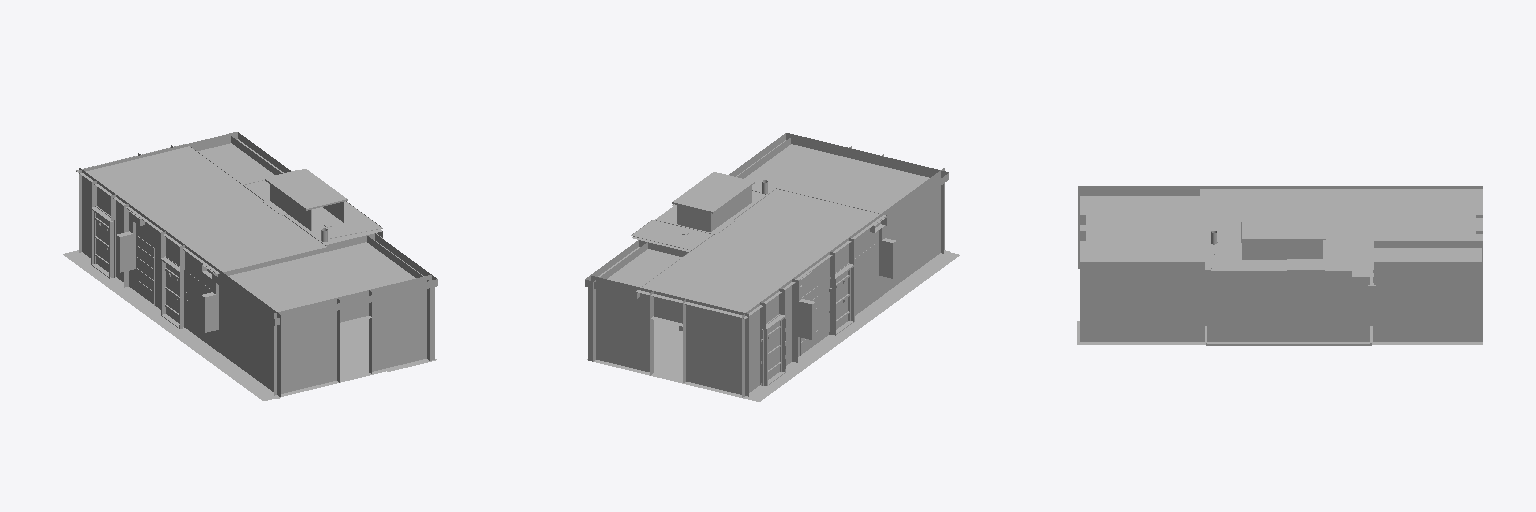
Rendered from LC_room2_gw.obj.
The picture shows the model from 3 angles: view 1: azimuth 30°, elevation 25°; view 2: azimuth 150°, elevation 25°; view 3: azimuth 270°, elevation 25°; orthographic projection.
Visible parts, largest first — view 1: room2gw_opt; view 2: room2gw_opt; view 3: room2gw_opt.
Part boxes in pixels (x1,y1,x2,y2): room2gw_opt: (63,132,437,400); room2gw_opt: (585,133,959,401); room2gw_opt: (1077,186,1482,345).
Bounding box in the file's own units: 10.88 × 5.93 × 20.6.